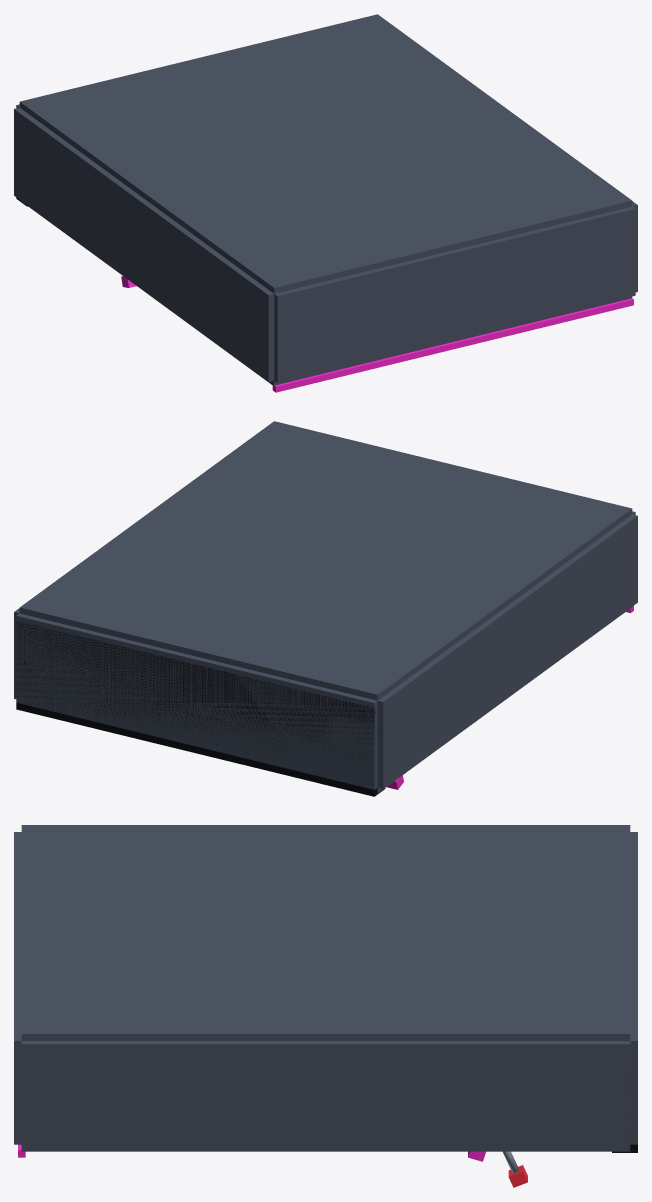
Rendered from shooter-rack.glb.
3 views of the same model, one above another, from view 1: azimuth 30°, elevation 25°; view 2: azimuth 150°, elevation 25°; view 3: azimuth 270°, elevation 25° (orthographic). The views are drawn at different scales.
Visible parts, largest first — view 1: Model Mesh; view 2: Model Mesh; view 3: Model Mesh.
Part boxes in pixels (x1,y1,x2,y2): Model Mesh: (14,14,637,392); Model Mesh: (14,421,637,796); Model Mesh: (14,825,637,1187).
Size of the model in its own units: 1.96 by 0.7625 by 2.4.
2 materials, 2 textured.
